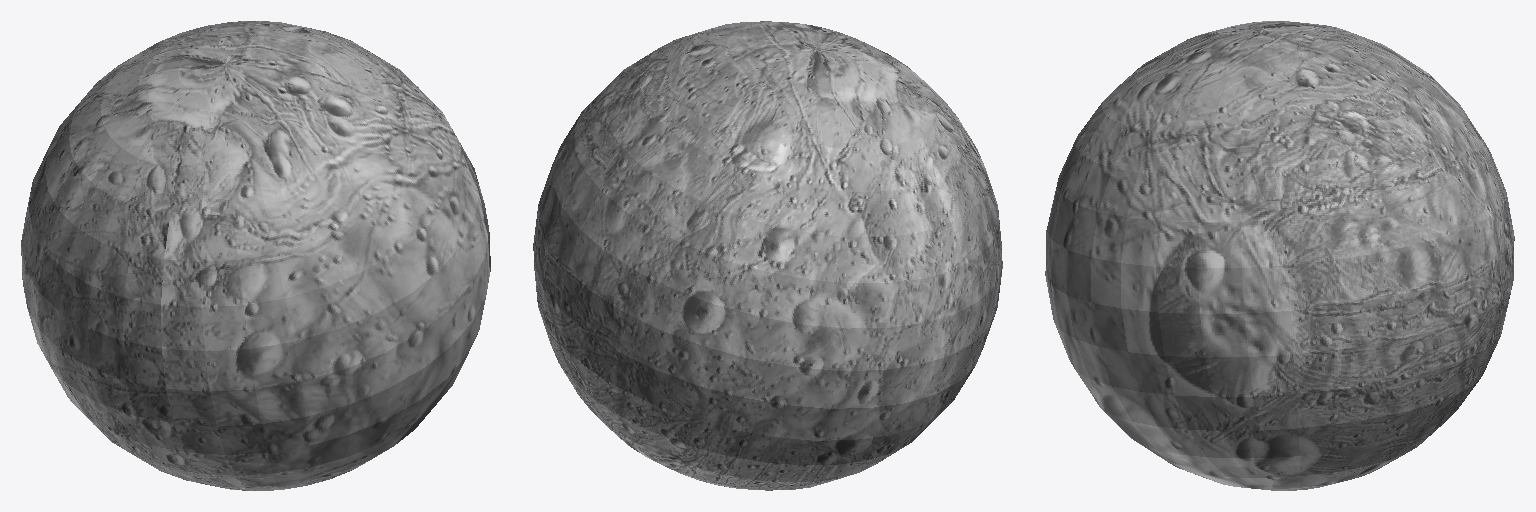
The picture shows the model from 3 angles: view 1: azimuth 30°, elevation 25°; view 2: azimuth 150°, elevation 25°; view 3: azimuth 270°, elevation 25°; orthographic projection.
Parts seen in each view (by area): view 1: Sphere; view 2: Sphere; view 3: Sphere.
Boxes of the visible parts, x1=… form: Sphere: x1=21, y1=21, x2=490, y2=490; Sphere: x1=533, y1=21, x2=1002, y2=490; Sphere: x1=1045, y1=21, x2=1514, y2=490.
Size of the model in its own units: 5.49 by 5.5 by 5.48.
Materials: 1 (1 with a texture image).